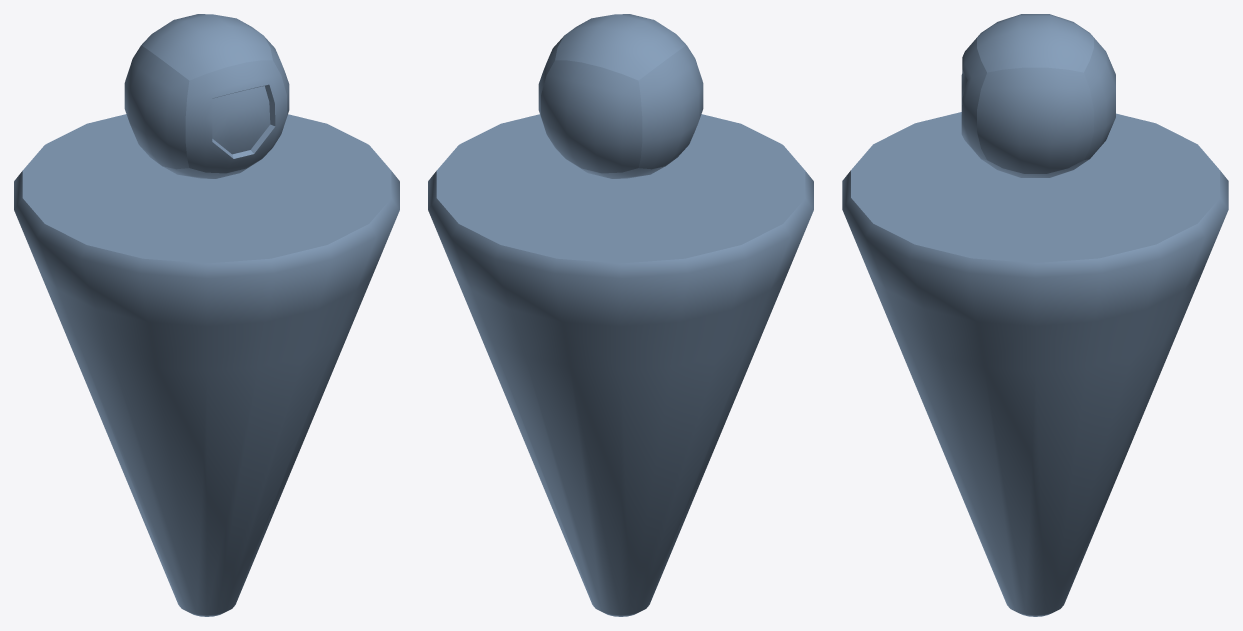
Rendered from rcBotSpinny.FBX.
The picture shows the model from 3 angles, left to right: view 1: azimuth 30°, elevation 25°; view 2: azimuth 150°, elevation 25°; view 3: azimuth 270°, elevation 25°; orthographic projection.
Parts seen in each view (by area): view 1: botSpinnyBody, botSpinnyHead, botSpinFace; view 2: botSpinnyBody, botSpinnyHead; view 3: botSpinnyBody, botSpinnyHead.
Part boxes in pixels (x1,y1,x2,y2): botSpinnyBody: [14, 114, 399, 616]; botSpinnyHead: [124, 14, 289, 178]; botSpinFace: [212, 86, 270, 154]; botSpinnyBody: [428, 114, 813, 616]; botSpinnyHead: [538, 14, 703, 178]; botSpinnyBody: [842, 112, 1228, 616]; botSpinnyHead: [961, 14, 1115, 177].
Bounding box in the file's own units: 0.5861 × 0.9653 × 0.5772.
